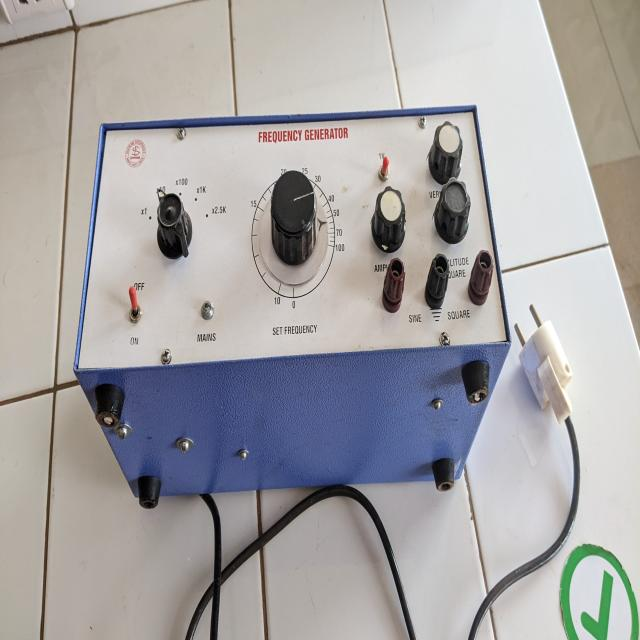Analog Frequency Generator: (70, 98, 518, 472)
